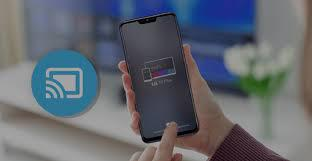Hand: (112, 48, 217, 154), (104, 123, 190, 161)
Smartphone: (112, 21, 197, 136)
